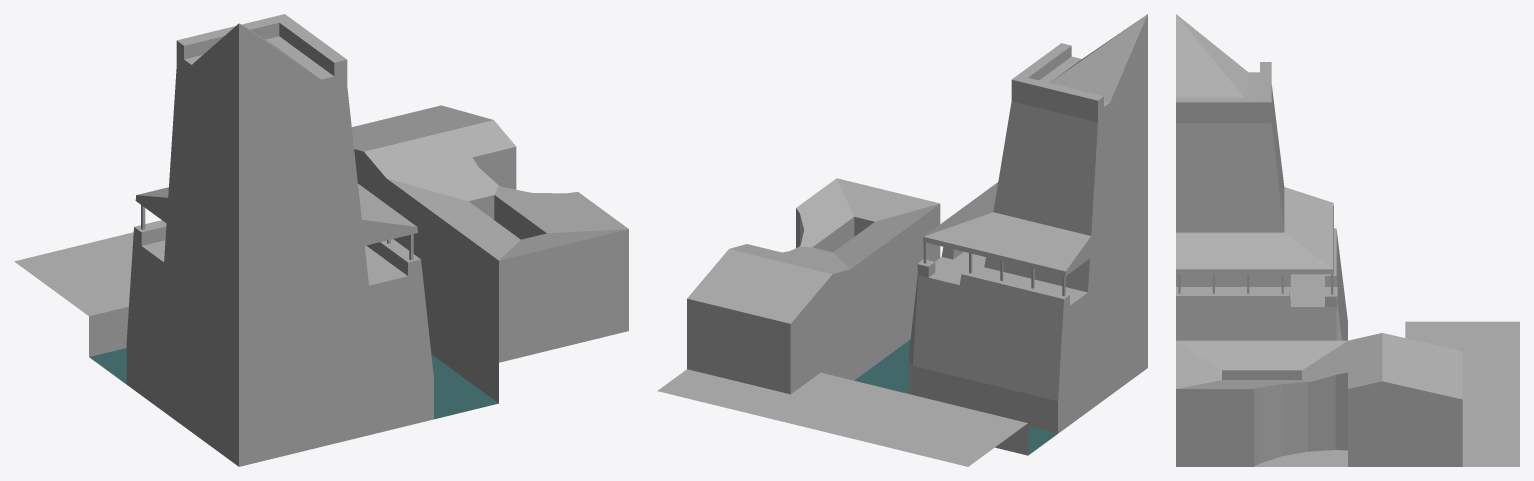
3 renders of one model, left to right at view 1: azimuth 30°, elevation 25°; view 2: azimuth 150°, elevation 25°; view 3: azimuth 270°, elevation 25°, orthographic. The views are drawn at different scales.
Parts seen in each view (by area): view 1: wr2c; view 2: wr2c; view 3: wr2c.
Part boxes in pixels (x1,y1,x2,y2): wr2c: (14, 14, 628, 466); wr2c: (657, 14, 1147, 466); wr2c: (1176, 14, 1519, 466).
Bounding box in the file's own units: 30 × 32.63 × 30.
